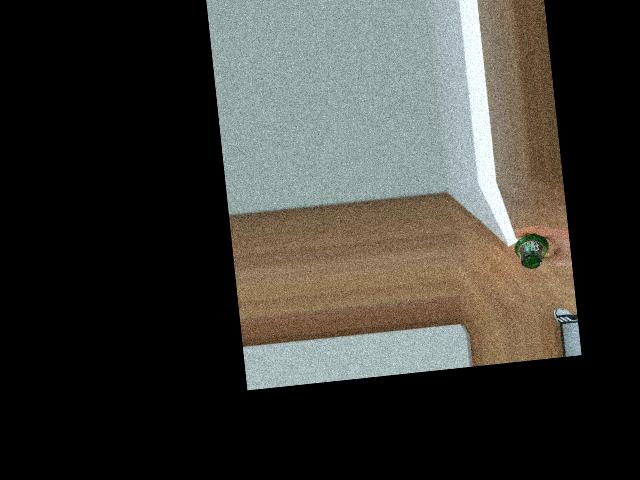beer: (513, 232, 551, 270)
